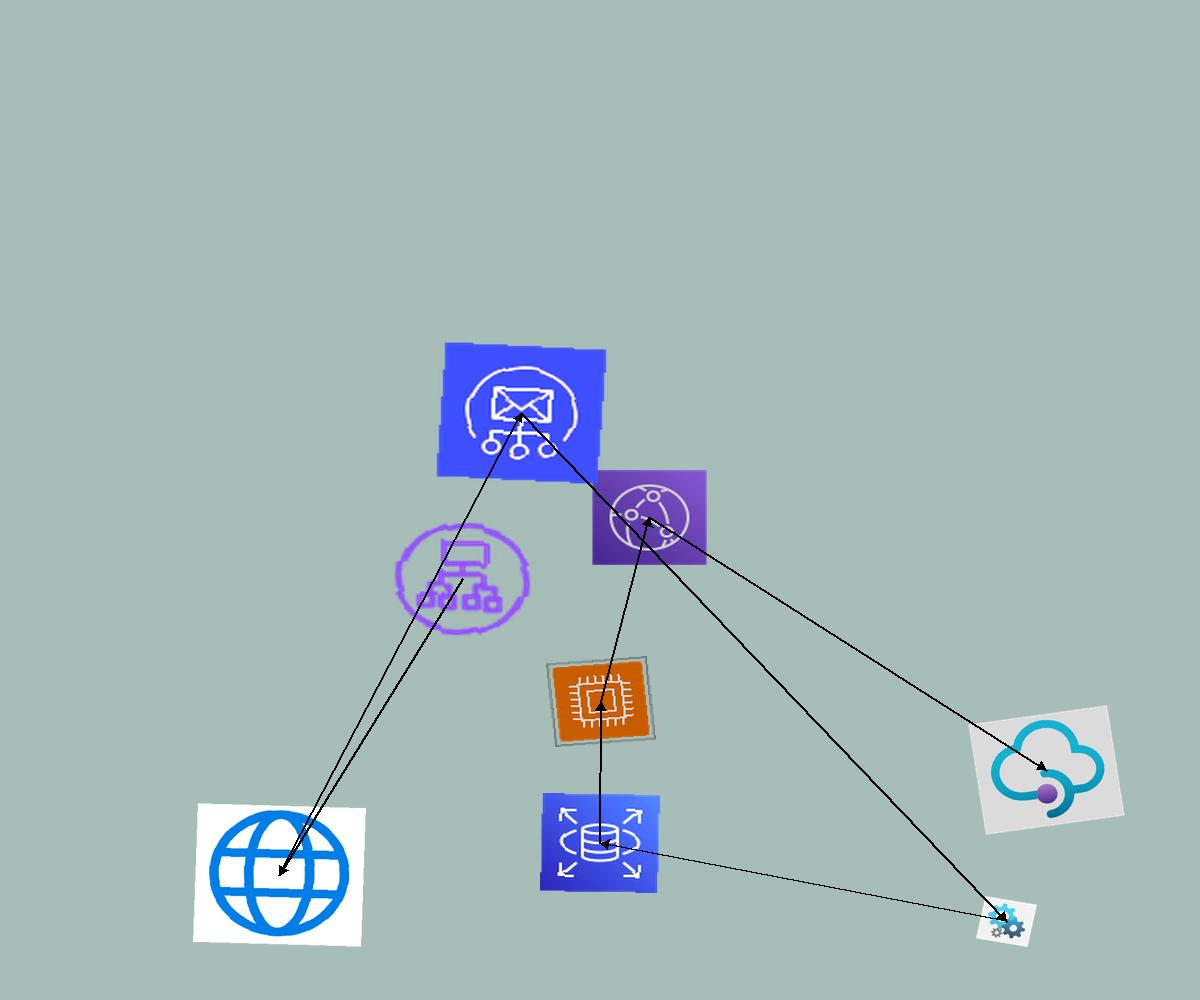AWS-Category_Compute: (546, 656, 656, 747)
AWS-CloudFront: (591, 469, 708, 566)
AWS-RDS: (540, 793, 660, 893)
AWS-Res_Elastic-Load-Balancing_Application-Load-Balancer: (383, 513, 542, 645)
AWS-Simple-Email-Service: (435, 341, 608, 485)
Azure_api: (976, 896, 1037, 947)
Azure_api_gateway: (968, 705, 1125, 835)
Azure_http: (193, 803, 366, 947)
